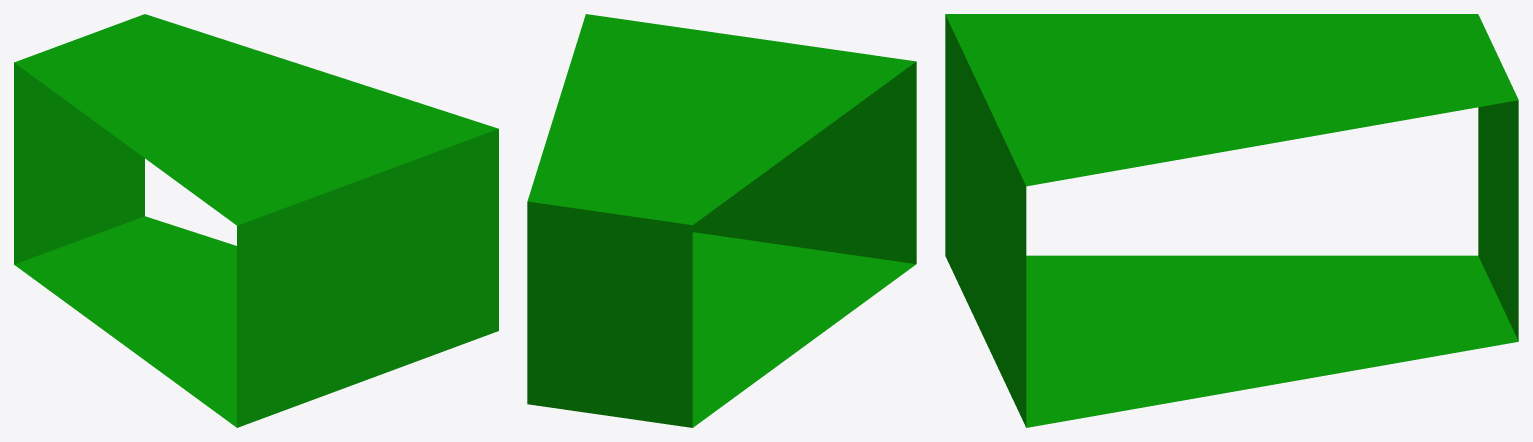
Rendered from ringPart_2.fbx.
3 renders of one model, left to right at view 1: azimuth 30°, elevation 25°; view 2: azimuth 150°, elevation 25°; view 3: azimuth 270°, elevation 25°, orthographic. The views are drawn at different scales.
Parts seen in each view (by area): view 1: part1_Ring8; view 2: part1_Ring8; view 3: part1_Ring8.
Boxes of the visible parts, x1,y1,x2,y2 form: part1_Ring8: (14, 14, 498, 427); part1_Ring8: (527, 14, 916, 427); part1_Ring8: (945, 14, 1518, 427).
Bounding box in the file's own units: 0.7654 × 0.5 × 1.08.
